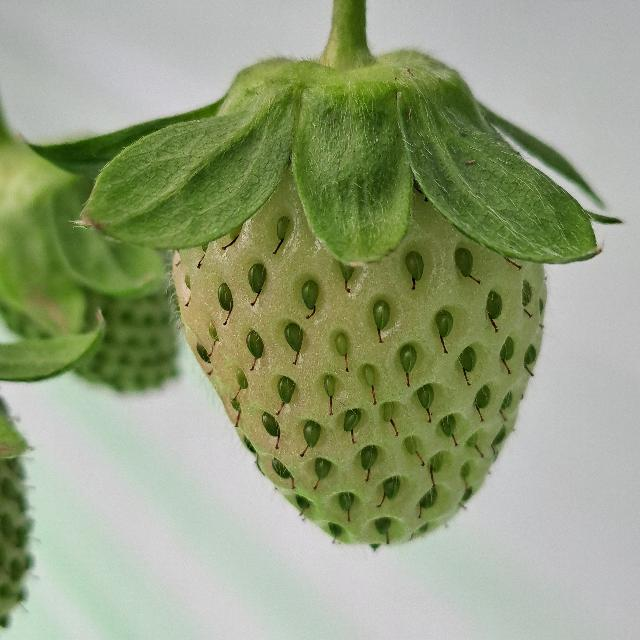Health_25: (172, 168, 546, 552)
